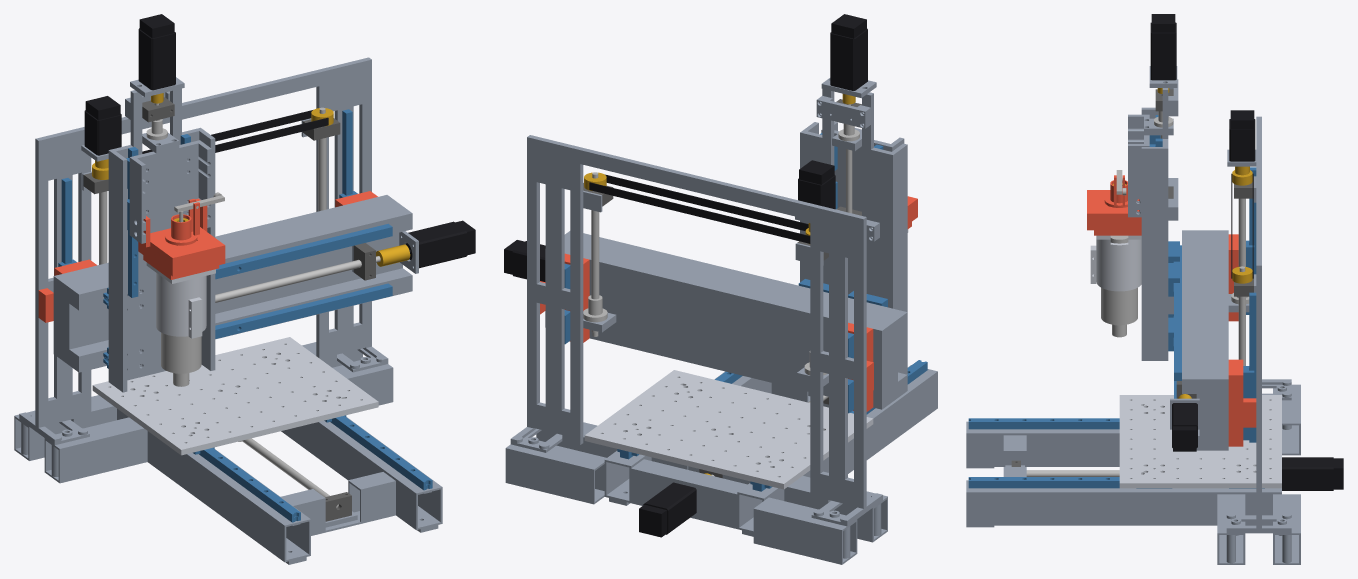
File: pro_home.glb
The picture shows the model from 3 angles, left to right: view 1: azimuth 30°, elevation 25°; view 2: azimuth 150°, elevation 25°; view 3: azimuth 270°, elevation 25°; orthographic projection. The views are drawn at different scales.
Parts seen in each view (by area): view 1: beam, table, x_carriage, upright_L, frame_cross_rear, upright_R, frame_longeron_L, z_slide, frame_longeron_R, lift_tie, frame_cross_bf, head_mount (+22 smaller); view 2: beam, table, upright_R, upright_L, frame_cross_rear, x_carriage, lift_tie, frame_longeron_L, frame_cross_end, z_motor, y_motor, lift_belt_b (+7 smaller); view 3: frame_longeron_R, table, beam, x_carriage, frame_longeron_L, frame_cross_rear, upright_R, head_mount, y_motor, y_rail_L, y_rail_R, z_motor (+16 smaller).
Part boxes in pixels (x1,y1,x2,y2): beam: (53, 195, 418, 372); table: (92, 337, 378, 455); x_carriage: (108, 88, 215, 392); upright_L: (19, 143, 91, 445); frame_cross_rear: (14, 342, 393, 483); upright_R: (316, 73, 388, 372); frame_longeron_L: (117, 409, 310, 564); z_slide: (129, 140, 211, 243); frame_longeron_R: (281, 417, 442, 532); lift_tie: (35, 57, 371, 154); frame_cross_bf: (280, 472, 395, 535); head_mount: (146, 262, 215, 338); beam: (545, 231, 907, 409); table: (584, 370, 873, 489); upright_R: (510, 151, 583, 452); upright_L: (810, 220, 882, 526); frame_cross_rear: (505, 422, 887, 564); x_carriage: (800, 88, 907, 374); lift_tie: (527, 135, 866, 232); frame_longeron_L: (737, 365, 937, 536); frame_cross_end: (631, 459, 747, 528); z_motor: (830, 14, 867, 90); y_motor: (639, 482, 696, 537); lift_belt_b: (589, 182, 810, 243); frame_longeron_R: (966, 480, 1281, 527); table: (1119, 395, 1281, 488); beam: (1170, 230, 1228, 450); x_carriage: (1141, 88, 1168, 360); frame_longeron_L: (966, 421, 1119, 468); frame_cross_rear: (1217, 384, 1300, 564); upright_R: (1226, 278, 1291, 533); head_mount: (1090, 235, 1141, 291); y_motor: (1282, 457, 1343, 490); y_rail_L: (968, 418, 1119, 429); y_rail_R: (968, 477, 1119, 488); z_motor: (1150, 14, 1176, 80).
Bounding box in the file's own units: 893 × 1025 × 813.
